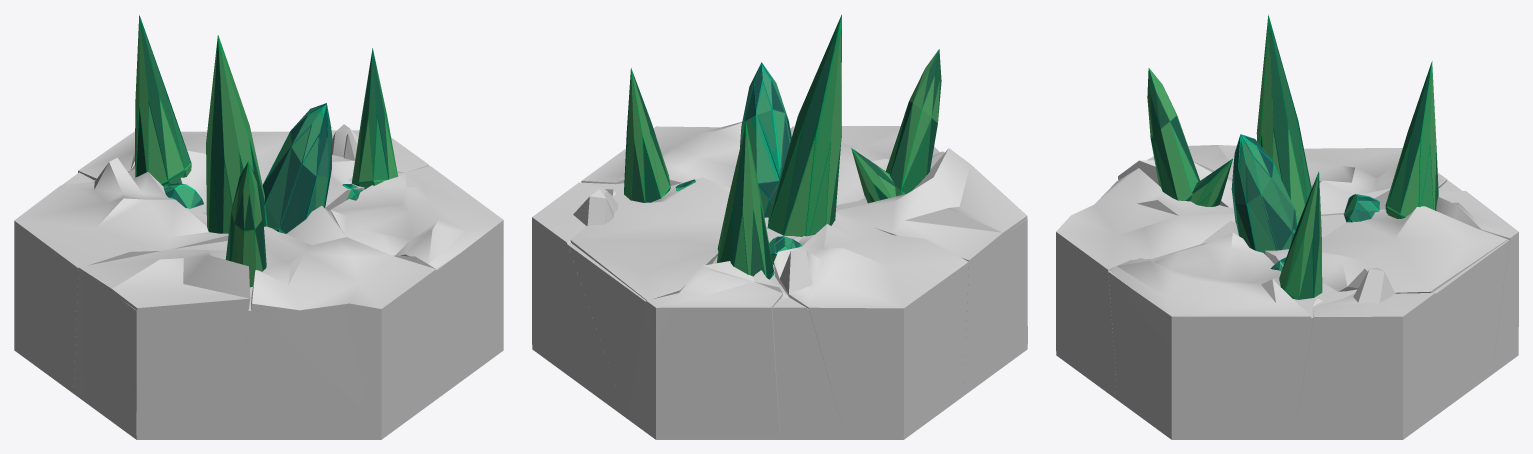
The model's file is gems.fbx.
3 views of the same model, side by side, from view 1: azimuth 30°, elevation 25°; view 2: azimuth 150°, elevation 25°; view 3: azimuth 270°, elevation 25° (orthographic). The views are drawn at different scales.
Visible parts, largest first — view 1: Cartoon Gem.003, Cylinder.001_cell.005, Cylinder.001_cell.002, Cartoon Gem.006, Cylinder.001, Cartoon Gem.002, Cylinder.001_cell.003, Cylinder.001_cell.009; view 2: Cylinder.001_cell.002, Cylinder.001_cell.003, Cylinder.001_cell.005, Cartoon Gem.002, Cylinder.001_cell.009, Cylinder.001, Cartoon Gem.006, Cartoon Gem.003, Cylinder.001_cell.004; view 3: Cartoon Gem.006, Cylinder.001_cell.009, Cartoon Gem.003, Cylinder.001, Cartoon Gem.002, Cylinder.001_cell.002, Cylinder.001_cell.003, Cylinder.001_cell.005.
Boxes of the visible parts, x1=… form: Cartoon Gem.003: x1=225, y1=161, x2=444, y2=435; Cylinder.001_cell.005: x1=74, y1=241, x2=250, y2=434; Cylinder.001_cell.002: x1=14, y1=35, x2=265, y2=388; Cartoon Gem.006: x1=328, y1=48, x2=503, y2=364; Cylinder.001: x1=14, y1=166, x2=503, y2=439; Cartoon Gem.002: x1=180, y1=103, x2=364, y2=233; Cylinder.001_cell.003: x1=78, y1=15, x2=191, y2=185; Cylinder.001_cell.009: x1=331, y1=124, x2=429, y2=173; Cylinder.001_cell.002: x1=767, y1=14, x2=968, y2=435; Cylinder.001_cell.003: x1=628, y1=122, x2=782, y2=435; Cylinder.001_cell.005: x1=836, y1=148, x2=1027, y2=391; Cartoon Gem.002: x1=570, y1=62, x2=795, y2=300; Cylinder.001_cell.009: x1=532, y1=182, x2=622, y2=409; Cylinder.001: x1=532, y1=128, x2=1027, y2=439; Cartoon Gem.006: x1=581, y1=68, x2=790, y2=202; Cartoon Gem.003: x1=790, y1=49, x2=944, y2=210; Cylinder.001_cell.004: x1=772, y1=292, x2=843, y2=435; Cartoon Gem.006: x1=1108, y1=171, x2=1322, y2=435; Cylinder.001_cell.009: x1=1294, y1=267, x2=1487, y2=435; Cartoon Gem.003: x1=1056, y1=68, x2=1238, y2=393; Cylinder.001: x1=1056, y1=181, x2=1518, y2=439; Cartoon Gem.002: x1=1231, y1=134, x2=1507, y2=293; Cylinder.001_cell.002: x1=1256, y1=14, x2=1447, y2=225; Cylinder.001_cell.003: x1=1385, y1=61, x2=1518, y2=369; Cylinder.001_cell.005: x1=1118, y1=145, x2=1236, y2=207.
Bounding box in the file's own units: 174 × 153 × 200.
Materials: 2 (1 with a texture image).
